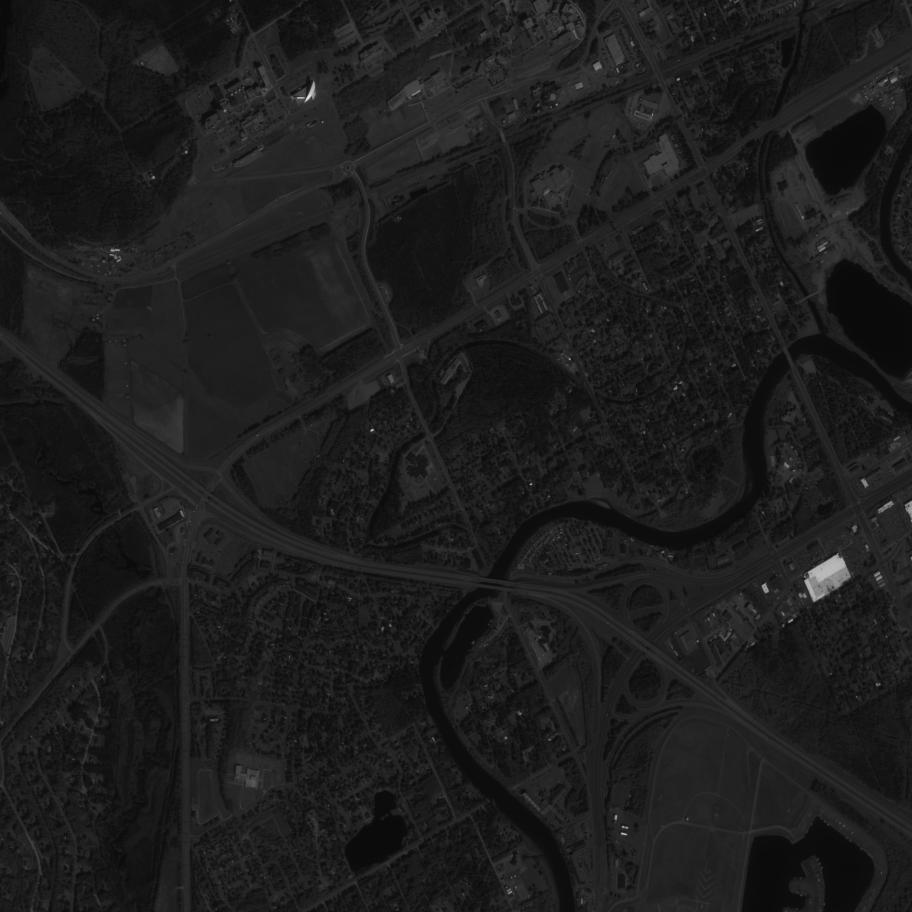plane: (845, 826, 850, 831), (838, 821, 843, 826), (848, 839, 853, 843), (859, 847, 864, 851), (867, 853, 871, 858), (862, 907, 866, 912), (817, 878, 821, 883), (845, 836, 849, 840), (842, 824, 846, 828), (835, 819, 839, 823), (826, 823, 830, 827), (823, 819, 827, 823), (808, 813, 812, 817), (810, 822, 814, 826), (805, 830, 809, 834), (818, 862, 822, 866), (820, 866, 824, 870), (816, 874, 820, 878), (872, 888, 876, 892), (868, 897, 872, 901), (816, 857, 819, 861), (799, 877, 803, 880), (794, 876, 797, 880), (880, 871, 883, 875), (823, 902, 826, 906), (819, 897, 821, 902), (819, 817, 822, 820), (795, 908, 798, 911), (809, 901, 812, 904), (800, 895, 803, 897), (819, 909, 821, 912)
storage-tank: (550, 93, 557, 101), (536, 103, 541, 107), (152, 176, 156, 180), (185, 150, 188, 155)
